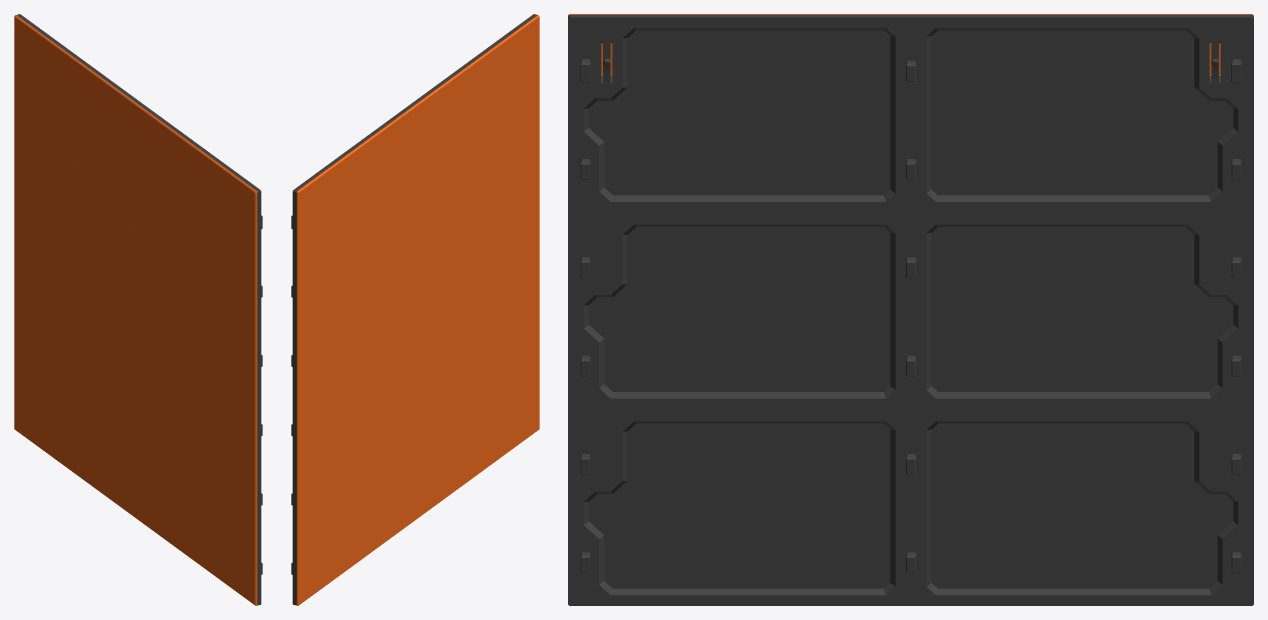
File: SideCover_185-3H.lib.glb
3 views of the same model, side by side, from view 1: azimuth 30°, elevation 25°; view 2: azimuth 150°, elevation 25°; view 3: azimuth 270°, elevation 25° (orthographic). The views are drawn at different scales.
Visible parts, largest first — view 1: SideCover_185-3H; view 2: SideCover_185-3H; view 3: SideCover_185-3H.
Boxes of the visible parts, x1,y1,x2,y2 form: SideCover_185-3H: (14, 14, 262, 605); SideCover_185-3H: (291, 14, 539, 605); SideCover_185-3H: (568, 14, 1253, 605).
Size of the model in its own units: 5.06 by 168 by 177.
